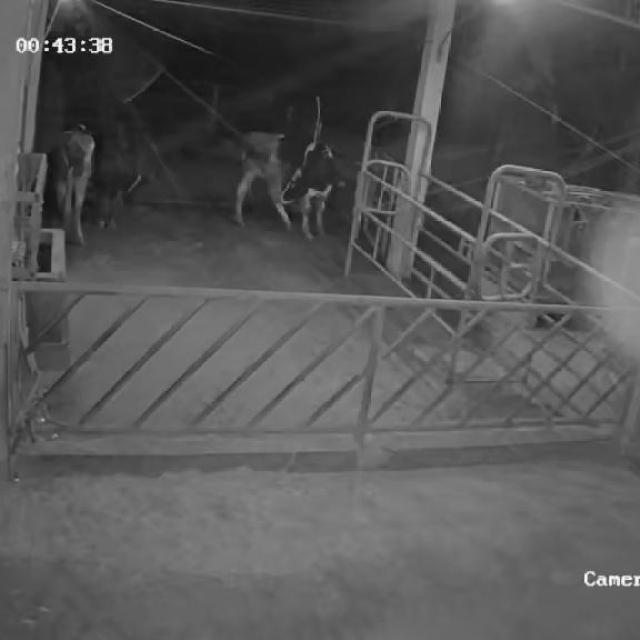standing: (228, 122, 340, 242), (42, 117, 98, 246)
